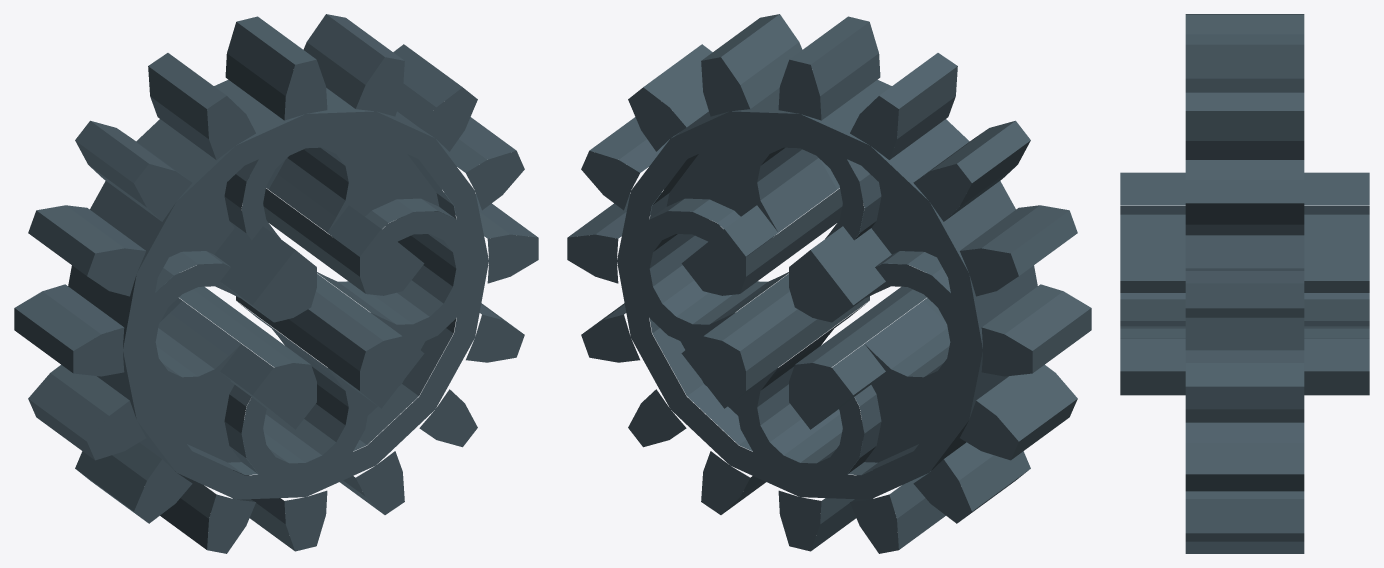
3 renders of one model, left to right at view 1: azimuth 30°, elevation 25°; view 2: azimuth 150°, elevation 25°; view 3: azimuth 270°, elevation 25°, orthographic.
Visible parts, largest first — view 1: world; view 2: world; view 3: world.
Boxes of the visible parts, x1,y1,x2,y2 form: world: [14, 14, 538, 553]; world: [567, 14, 1091, 553]; world: [1120, 14, 1369, 553].
Bounding box in the file's own units: 0.0173 × 0.0173 × 0.008.
